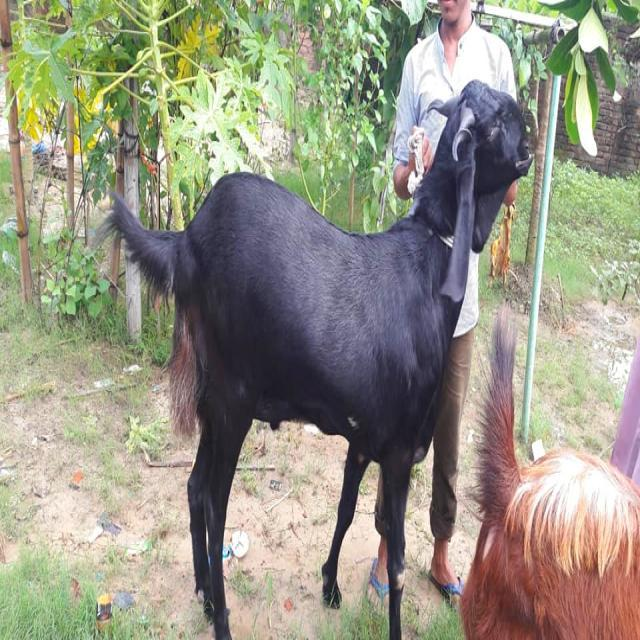Goat: (92, 77, 535, 638), (459, 300, 640, 638)
